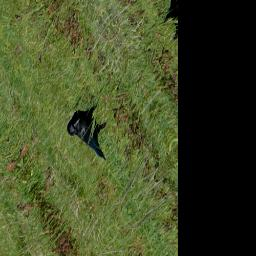Crow: (64, 91, 121, 179)
